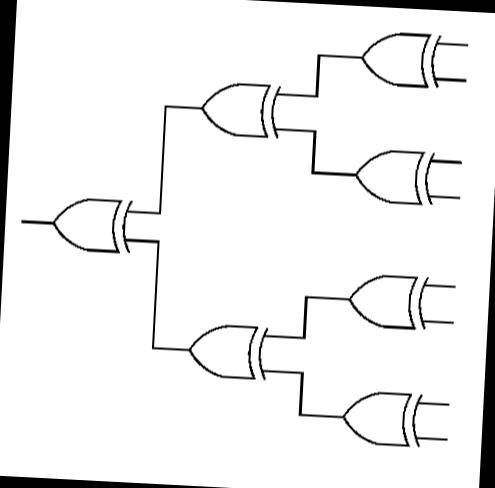xor: (334, 383, 429, 454), (348, 140, 441, 212), (356, 24, 448, 96), (194, 74, 286, 144), (181, 315, 273, 385), (46, 190, 138, 260), (344, 266, 433, 334)
